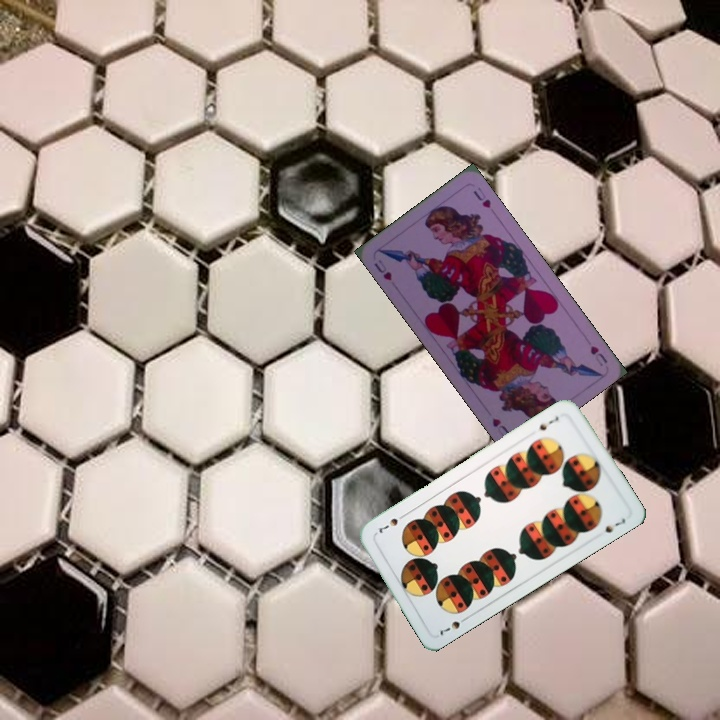HU: (370, 255, 394, 283), (586, 342, 610, 369)
S7: (435, 612, 471, 638), (535, 412, 562, 433)
